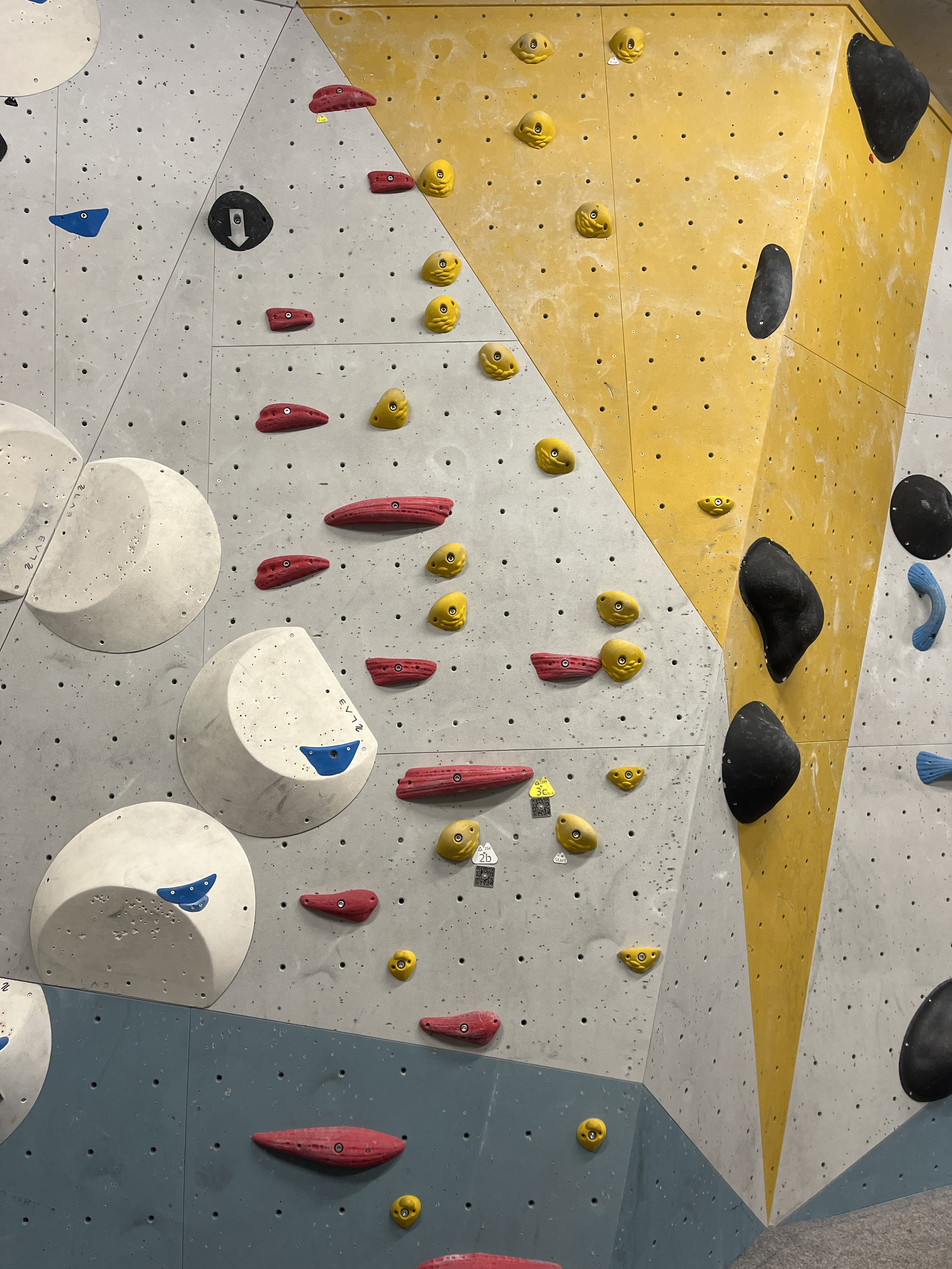hold: (741, 539, 827, 681), (848, 33, 931, 162), (725, 702, 803, 823), (250, 1127, 404, 1170), (899, 979, 952, 1102), (890, 474, 952, 559), (397, 765, 533, 798), (748, 244, 792, 338), (324, 497, 452, 529), (206, 191, 270, 250), (908, 563, 945, 651), (420, 1012, 500, 1044), (253, 556, 330, 589), (298, 890, 377, 921), (156, 874, 216, 912), (255, 403, 328, 432), (299, 742, 359, 775), (601, 638, 646, 681), (531, 653, 602, 680), (365, 657, 435, 684), (309, 85, 375, 113), (419, 1255, 559, 1268), (436, 821, 479, 862), (50, 207, 107, 237), (558, 813, 599, 852), (598, 591, 641, 625), (537, 437, 577, 473), (430, 592, 467, 630), (370, 390, 408, 427), (519, 110, 556, 147), (428, 542, 467, 577), (421, 252, 462, 285), (480, 343, 518, 378), (419, 160, 454, 197), (576, 204, 614, 237), (424, 296, 458, 332), (916, 751, 952, 783), (516, 34, 553, 64), (612, 28, 645, 61), (265, 308, 312, 330), (620, 948, 661, 973), (369, 169, 413, 192), (391, 1195, 421, 1227), (578, 1119, 607, 1150), (610, 767, 645, 790), (697, 496, 734, 516), (389, 950, 414, 979), (0, 1036, 8, 1050)
volume: (28, 802, 252, 1005), (177, 627, 377, 837), (26, 459, 219, 652), (0, 403, 79, 602), (0, 0, 96, 97), (0, 979, 51, 1142)
